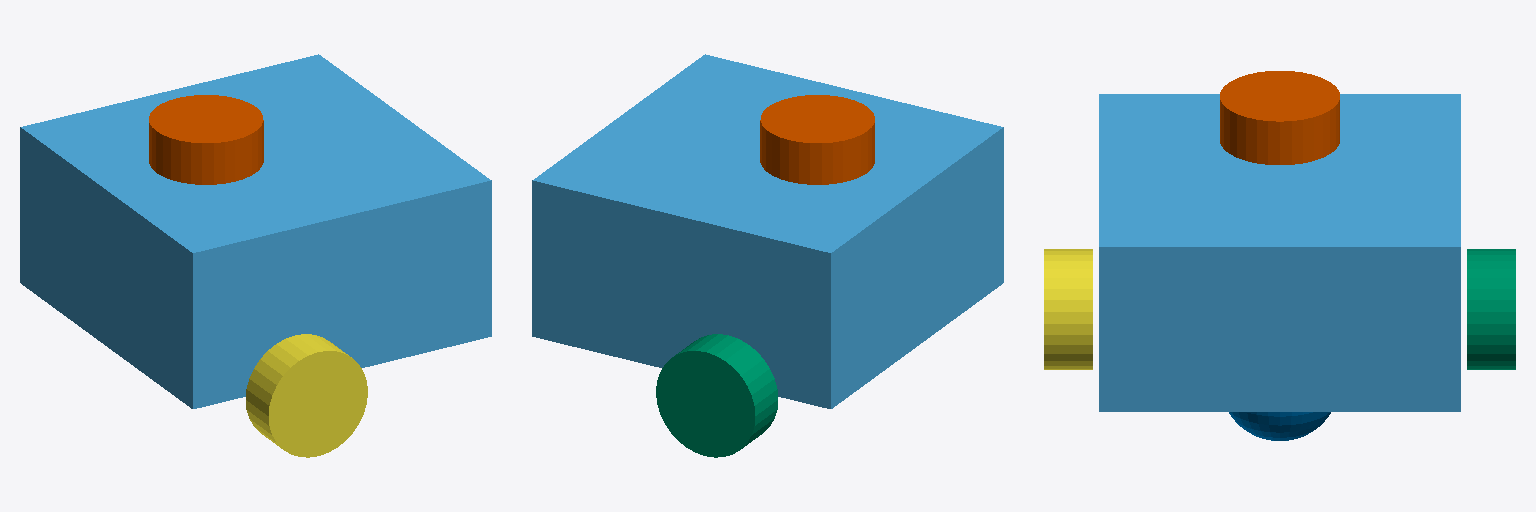
URDF robot description (rodolfo):
<?xml version="1.0" ?>
<!-- =================================================================================== -->
<!-- |    This document was autogenerated by xacro from robot.urdf.xacro               | -->
<!-- |    EDITING THIS FILE BY HAND IS NOT RECOMMENDED                                 | -->
<!-- =================================================================================== -->
<robot name="rodolfo">
  <!-- Color Definitions -->
  <material name="white">
    <color rgba="1 1 1 1"/>
  </material>
  <material name="orange">
    <color rgba="1 0.3 0.1 1"/>
  </material>
  <material name="blue">
    <color rgba="0.2 0.2 1 1"/>
  </material>
  <material name="black">
    <color rgba="0 0 0 1"/>
  </material>
  <!-- Color Definitions -->
  <gazebo reference="chassis">
    <material>Gazebo/White</material>
  </gazebo>
  <gazebo reference="right_wheel">
    <material>Gazebo/Orange</material>
  </gazebo>
  <gazebo reference="left_wheel">
    <material>Gazebo/Orange</material>
  </gazebo>
  <gazebo reference="caster_wheel">
    <material>Gazebo/Blue</material>
  </gazebo>
  <gazebo reference="caster_wheel">
    <material>Gazebo/Black</material>
    <mu1 value="0.001"/>
    <mu2 value="0.001"/>
  </gazebo>
  <!-- Specify some standard inertial calculations https://en.wikipedia.org/wiki/List_of_moments_of_inertia -->
  <!-- These make use of xacro's mathematical functionality -->
  <!-- base link -->
  <link name="base_link">
    </link>
  <joint name="base_link" type="fixed">
    <parent link="base_link"/>
    <child link="chassis"/>
    <origin xyz="-0.1 0 0"/>
  </joint>
  <!-- chassis link -->
  <link name="chassis">
    <visual>
      <origin xyz="0.15 0 0.075"/>
      <geometry>
        <box size="0.3 0.3 0.15"/>
      </geometry>
    </visual>
    <collision>
      <origin xyz="0.15 0 0.075"/>
      <geometry>
        <box size="0.3 0.3 0.15"/>
      </geometry>
    </collision>
    <inertial>
      <origin rpy="0 0 0" xyz="0.15 0 0.075"/>
      <mass value="0.8"/>
      <inertia ixx="0.007499999999999999" ixy="0.0" ixz="0.0" iyy="0.007499999999999999" iyz="0.0" izz="0.012"/>
    </inertial>
  </link>
  <!-- left wheel joint -->
  <joint name="left_wheel_joint" type="continuous">
    <parent link="base_link"/>
    <child link="left_wheel"/>
    <origin rpy="-1.5707963267948966 0 0" xyz="0 0.175 0"/>
    <axis xyz="0 0 1"/>
  </joint>
  <!-- left wheel link -->
  <link name="left_wheel">
    <visual>
      <geometry>
        <cylinder length="0.04" radius="0.05"/>
      </geometry>
    </visual>
    <collision>
      <geometry>
        <sphere radius="0.05"/>
      </geometry>
    </collision>
    <inertial>
      <origin rpy="0 0 0" xyz="0 0 0"/>
      <mass value="0.1"/>
      <inertia ixx="7.583333333333335e-05" ixy="0.0" ixz="0.0" iyy="7.583333333333335e-05" iyz="0.0" izz="0.00012500000000000003"/>
    </inertial>
  </link>
  <!-- right wheel joint -->
  <joint name="right_wheel_joint" type="continuous">
    <parent link="base_link"/>
    <child link="right_wheel"/>
    <origin rpy="1.5707963267948966 0 0" xyz="0 -0.175 0"/>
    <axis xyz="0 0 -1"/>
  </joint>
  <!-- right wheel link -->
  <link name="right_wheel">
    <visual>
      <geometry>
        <cylinder length="0.04" radius="0.05"/>
      </geometry>
    </visual>
    <collision>
      <geometry>
        <sphere radius="0.05"/>
      </geometry>
    </collision>
    <inertial>
      <origin rpy="0 0 0" xyz="0 0 0"/>
      <mass value="0.1"/>
      <inertia ixx="7.583333333333335e-05" ixy="0.0" ixz="0.0" iyy="7.583333333333335e-05" iyz="0.0" izz="0.00012500000000000003"/>
    </inertial>
  </link>
  <!-- caster wheel joint -->
  <joint name="caster_wheel_joint" type="fixed">
    <parent link="chassis"/>
    <child link="caster_wheel"/>
    <origin xyz="0.24 0 0"/>
  </joint>
  <!-- caster wheel link -->
  <link name="caster_wheel">
    <collision>
      <geometry>
        <sphere radius="0.05"/>
      </geometry>
    </collision>
    <visual>
      <geometry>
        <sphere radius="0.05"/>
      </geometry>
    </visual>
    <inertial>
      <origin rpy="0 0 0" xyz="0 0 0"/>
      <mass value="0.1"/>
      <inertia ixx="0.00010000000000000005" ixy="0.0" ixz="0.0" iyy="0.00010000000000000005" iyz="0.0" izz="0.00010000000000000005"/>
    </inertial>
  </link>
  <!-- lidar joint -->
  <joint name="laser_joint" type="fixed">
    <parent link="chassis"/>
    <child link="laser_frame"/>
    <origin rpy="0 0 0" xyz="0.1 0 0.175"/>
  </joint>
  <!-- laser_frame -->
  <link name="laser_frame">
    <visual>
      <geometry>
        <cylinder length="0.04" radius="0.05"/>
      </geometry>
    </visual>
    <collision>
      <geometry>
        <cylinder length="0.04" radius="0.05"/>
      </geometry>
    </collision>
    <inertial>
      <origin rpy="0 0 0" xyz="0 0 0"/>
      <mass value="0.1"/>
      <inertia ixx="7.583333333333335e-05" ixy="0.0" ixz="0.0" iyy="7.583333333333335e-05" iyz="0.0" izz="0.00012500000000000003"/>
    </inertial>
  </link>
  <gazebo reference="laser_frame">
    <material>Gazebo/Red</material>
    <sensor name="laser" type="ray">
      <pose>0 0 0 0 0 0</pose>
      <visualize>true</visualize>
      <update_rate>10</update_rate>
      <ray>
        <scan>
          <horizontal>
            <!--samples> is the number of simulated lidar rays to generate per complete laser sweep cycle.-->
            <samples>360</samples>
            <!--resolution>: this number is multiplied by samples to determine the number range data points.-->
            <resolution>1</resolution>
            <min_angle>-3.14</min_angle>
            <max_angle>3.14</max_angle>
          </horizontal>
        </scan>
        <range>
          <min>0.3</min>
          <max>12</max>
          <resolution>0.01</resolution>
        </range>
      </ray>
      <plugin filename="libgazebo_ros_ray_sensor.so" name="laser_controller">
        <ros>
          <remapping>~/out:=scan</remapping>
        </ros>
        <output_type>sensor_msgs/LaserScan</output_type>
        <frame_name>laser_frame</frame_name>
      </plugin>
    </sensor>
  </gazebo>
  <ros2_control name="Gazebo_control_xacro_plugin" type="system">
    <hardware>
      <plugin>gazebo_ros2_control/GazeboSystem</plugin>
    </hardware>
    <joint name="left_wheel_joint">
      <command_interface name="velocity">
        <param name="min">-10</param>
        <param name="max">10</param>
      </command_interface>
      <state_interface name="velocity"/>
      <state_interface name="position"/>
    </joint>
    <joint name="right_wheel_joint">
      <command_interface name="velocity">
        <param name="min">-10</param>
        <param name="max">10</param>
      </command_interface>
      <state_interface name="velocity"/>
      <state_interface name="position"/>
    </joint>
  </ros2_control>
  <gazebo>
    <plugin filename="libgazebo_ros2_control.so" name="gazebo_ros2_control">
      <parameters>/root/f112th_2501_camel/install/f112th_sim_2501_camel/share/f112th_sim_2501_camel/config/my_controllers.yaml</parameters>
    </plugin>
  </gazebo>
  <!-- <xacro:include filename="gazebo_control.xacro"/> -->
</robot>

--- What the picture shows (computed from the rendered views, not written in the file) ---
3 views of the same robot in one strip: view 1: azimuth 30°, elevation 25°; view 2: azimuth 150°, elevation 25°; view 3: azimuth 270°, elevation 25° (orthographic).
Model rodolfo with 6 links and 5 joints (2 continuous, 3 fixed), rooted at base_link, posed all joints at 0.
Links seen in each view (by area): view 1: chassis, right_wheel, laser_frame; view 2: chassis, left_wheel, laser_frame; view 3: chassis, laser_frame, left_wheel, right_wheel, caster_wheel.
Boxes of the visible links, left/top/right/bottom form: chassis: left=20, top=54, right=491, bottom=408; right_wheel: left=246, top=334, right=367, bottom=457; laser_frame: left=149, top=95, right=263, bottom=184; chassis: left=532, top=54, right=1003, bottom=408; left_wheel: left=656, top=334, right=777, bottom=457; laser_frame: left=760, top=95, right=874, bottom=184; chassis: left=1099, top=94, right=1460, bottom=411; laser_frame: left=1220, top=71, right=1339, bottom=164; left_wheel: left=1467, top=249, right=1515, bottom=369; right_wheel: left=1044, top=249, right=1092, bottom=369; caster_wheel: left=1229, top=412, right=1330, bottom=440.
Size in the robot's own frame: 0.3 by 0.39 by 0.245 metres.
Geometry: primitives only (box / cylinder / sphere), no mesh files.
